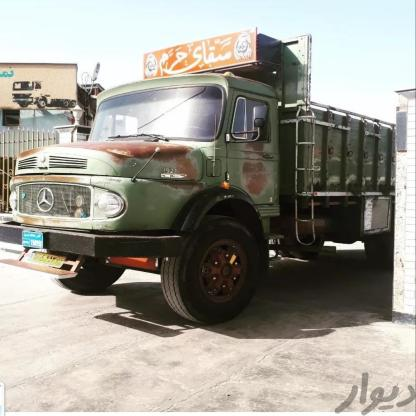Truck: (3, 29, 391, 322)
